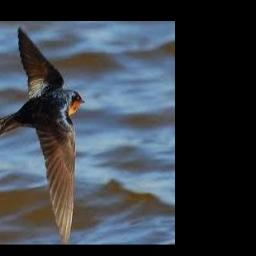Swallow: (0, 27, 85, 244)
